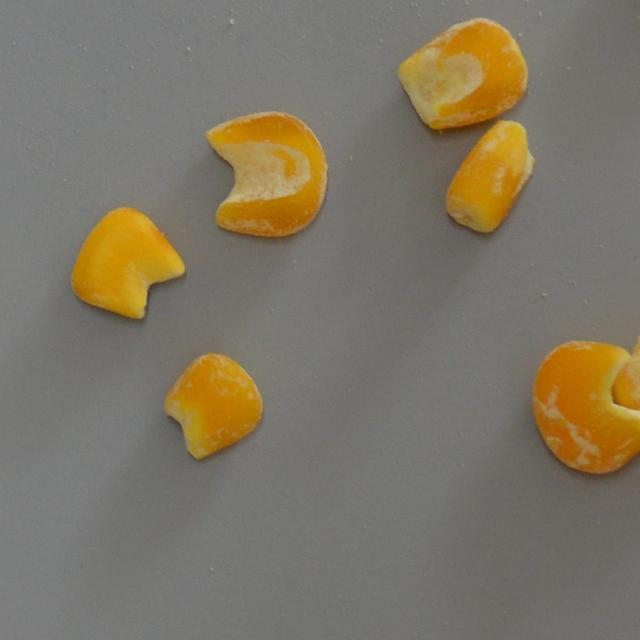pelicula: (202, 108, 328, 236), (395, 14, 528, 128), (531, 340, 640, 475), (70, 205, 186, 320), (442, 118, 536, 234), (163, 352, 262, 460), (628, 318, 640, 418)
